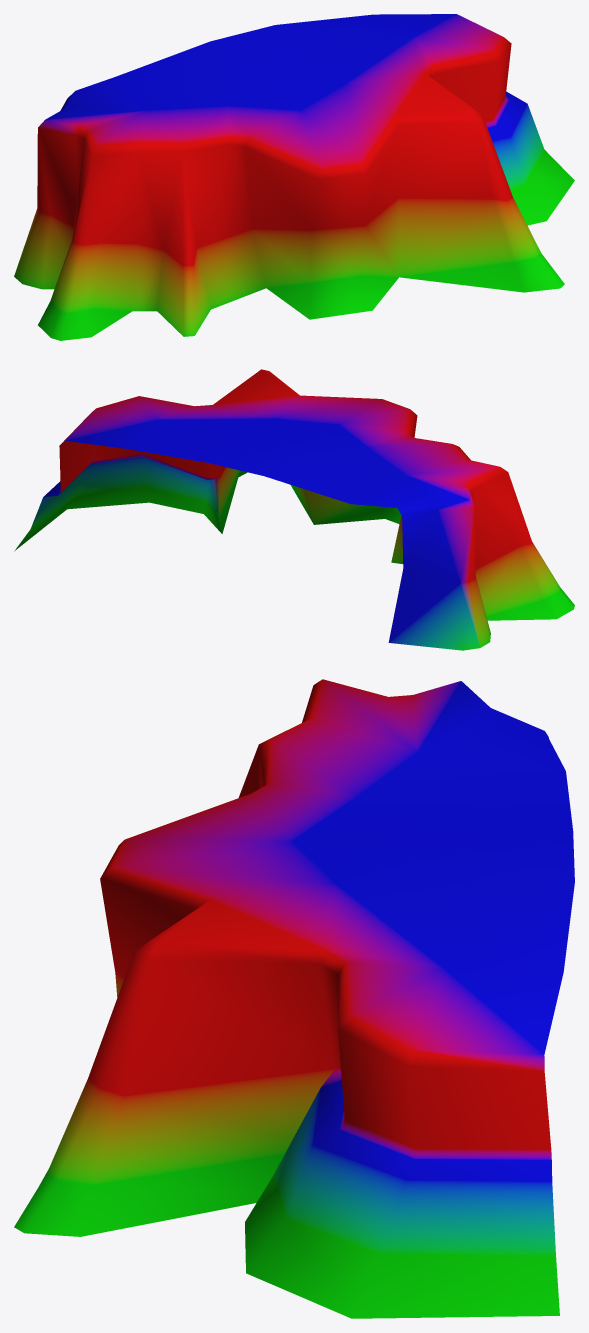
Rendered from M_Rock_Cliff_C.FBX.
The picture shows the model from 3 angles, top to bottom: view 1: azimuth 30°, elevation 25°; view 2: azimuth 150°, elevation 25°; view 3: azimuth 270°, elevation 25°; orthographic projection. The views are drawn at different scales.
Visible parts, largest first — view 1: Rock_Cliff_C; view 2: Rock_Cliff_C; view 3: Rock_Cliff_C.
Part boxes in pixels (left/top/right/bottom): Rock_Cliff_C: left=14, top=14, right=574, bottom=340; Rock_Cliff_C: left=14, top=369, right=574, bottom=650; Rock_Cliff_C: left=14, top=679, right=574, bottom=1318.
Bounding box in the file's own units: 1367 × 385 × 751.
